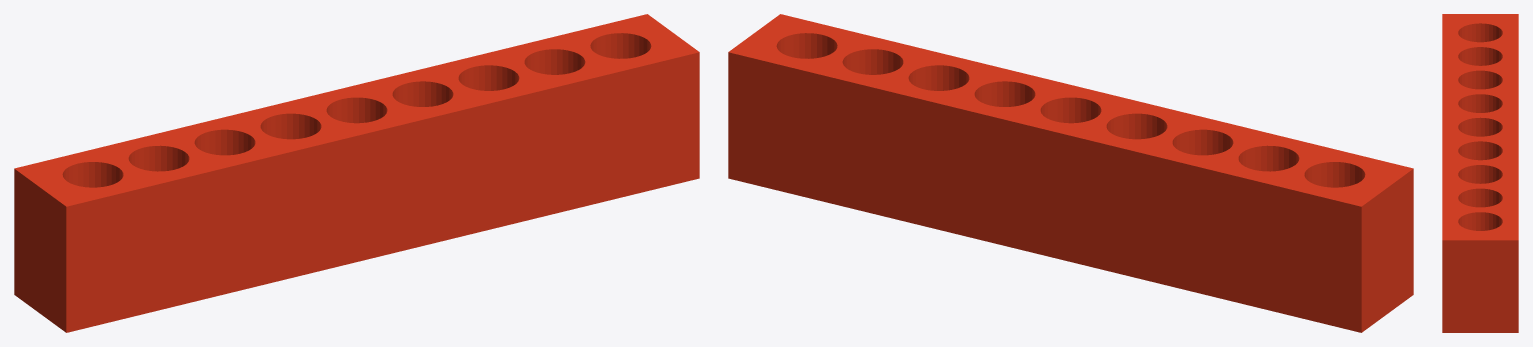
File: cube_rack.glb
3 views of the same model, side by side, from view 1: azimuth 30°, elevation 25°; view 2: azimuth 150°, elevation 25°; view 3: azimuth 270°, elevation 25° (orthographic). The views are drawn at different scales.
Parts seen in each view (by area): view 1: Cube; view 2: Cube; view 3: Cube.
Part boxes in pixels (box(x1,y1,x2,y2)): Cube: box(14, 14, 699, 332); Cube: box(728, 14, 1413, 332); Cube: box(1442, 14, 1518, 332).
Size of the model in its own units: 0.84 by 0.16 by 0.12.
